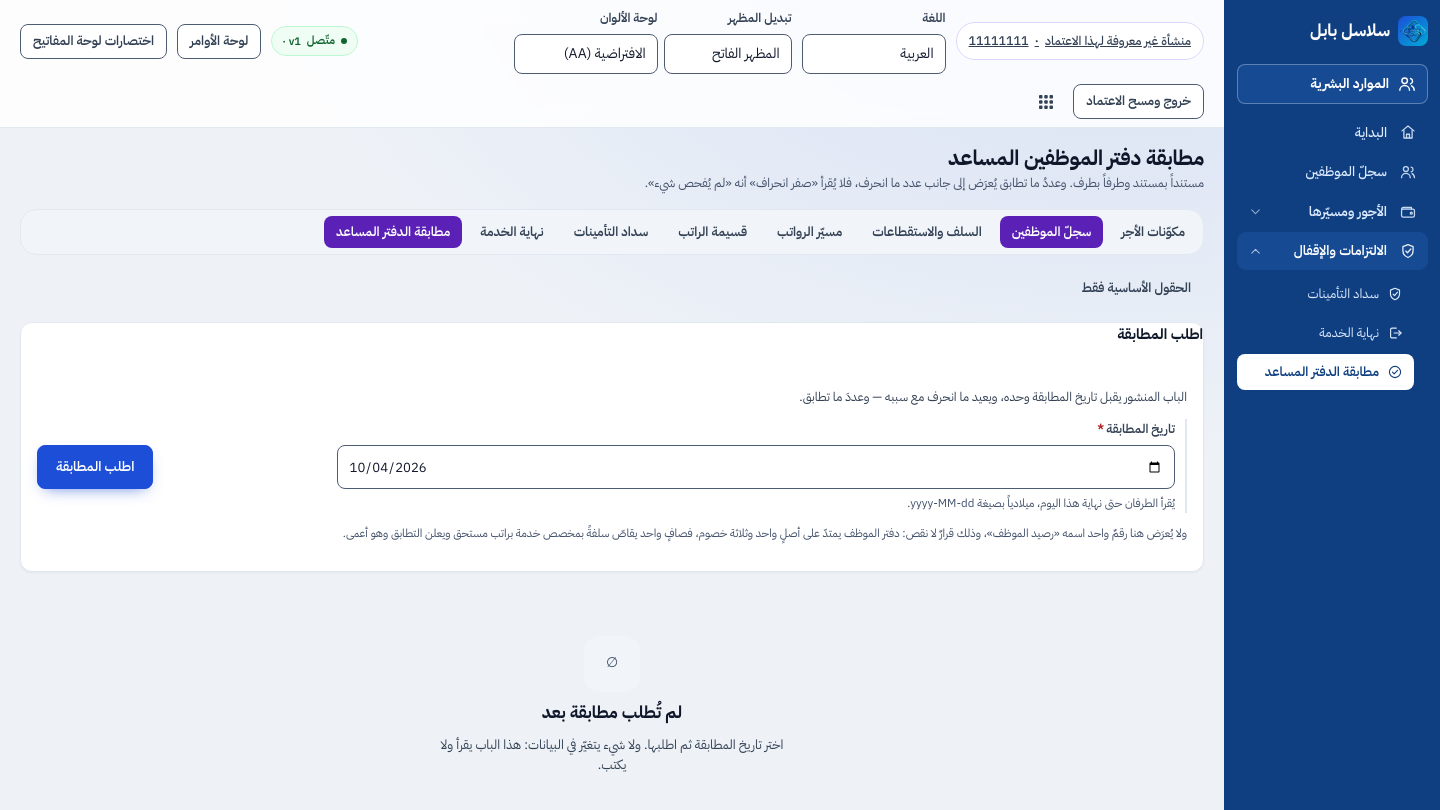
Scenario: المطابقة › صفرُ انحرافٍ مع صفرِ تطابقٍ يُعلَن «لم يُفحص شيء» ولا يُلبَس ثوب النجاح
Click the button with test id "hr-recon-run" at (95, 467), box [37,445,153,489]
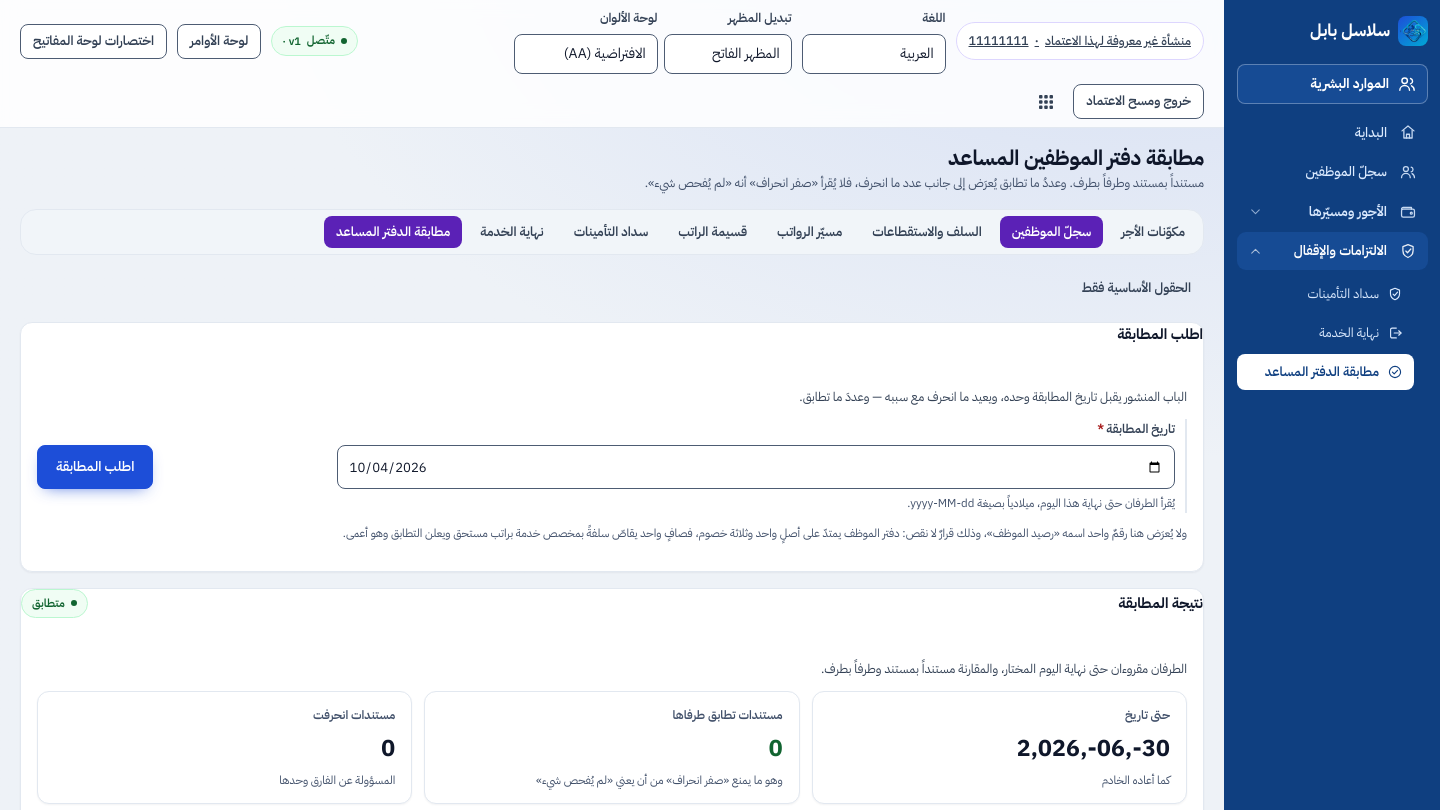
Now the text with class "num" below "مستندات تطابق طرفاها" reads "0", box [769,731,783,766]
